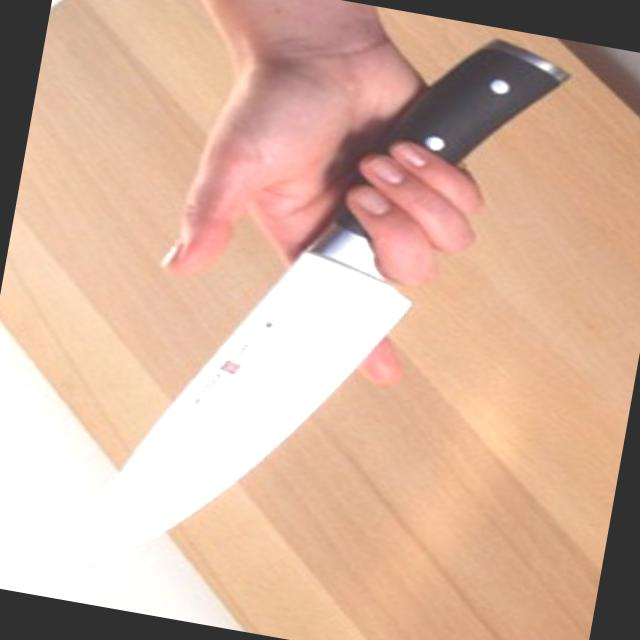knife: (41, 171, 472, 639)
